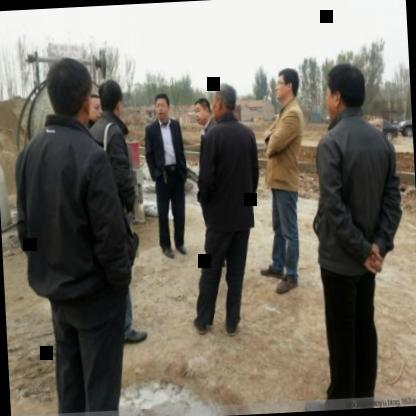head: (41, 54, 94, 126), (322, 59, 368, 120), (209, 79, 240, 124), (272, 64, 302, 107), (97, 76, 125, 122), (150, 89, 173, 124), (190, 93, 212, 128), (85, 91, 103, 127)
